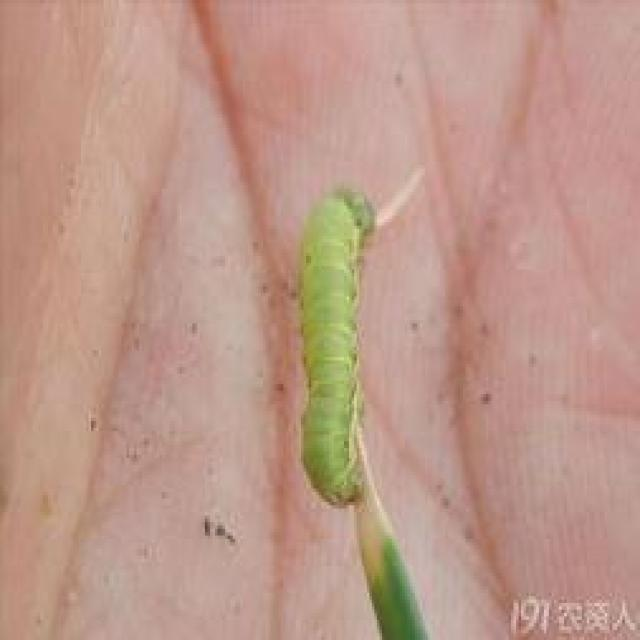BeetArmyWorm-Larva-: (266, 160, 407, 510)
